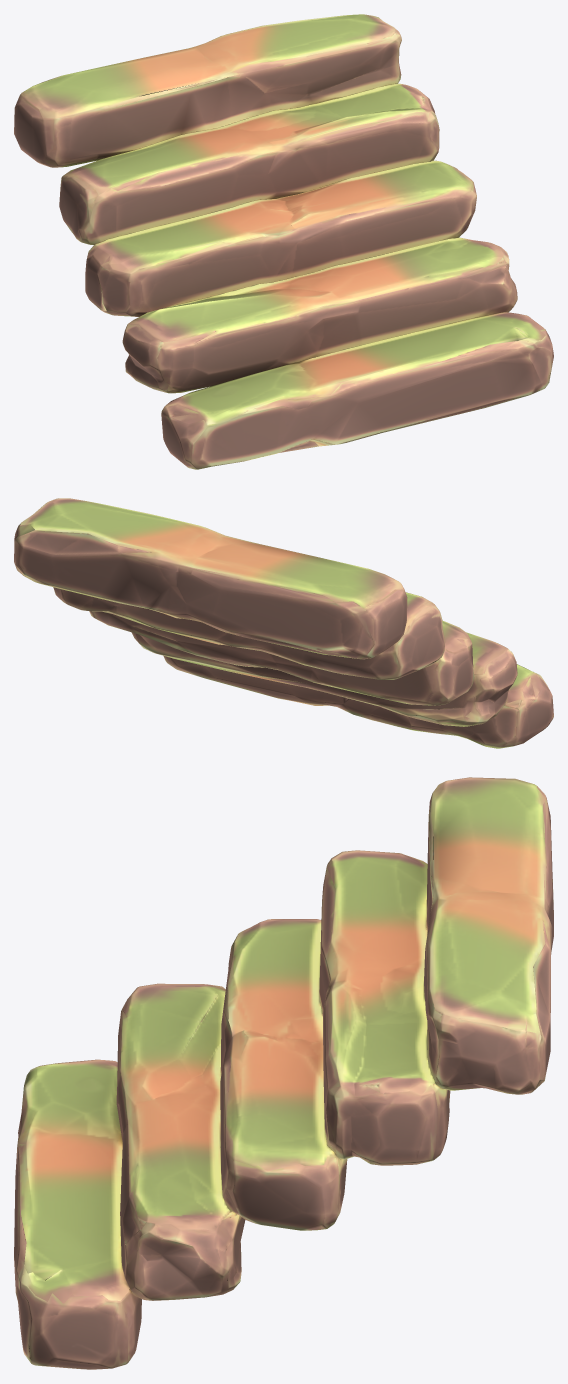
Rendered from Stairs.fbx.
3 renders of one model, top to bottom at view 1: azimuth 30°, elevation 25°; view 2: azimuth 150°, elevation 25°; view 3: azimuth 270°, elevation 25°, orthographic. The views are drawn at different scales.
Parts seen in each view (by area): view 1: Cube.021; view 2: Cube.021; view 3: Cube.021.
Boxes of the visible parts, x1,y1,x2,y2 form: Cube.021: (14, 14, 553, 469); Cube.021: (14, 498, 553, 748); Cube.021: (14, 777, 553, 1369).
Bounding box in the file's own units: 499 × 339 × 447.
